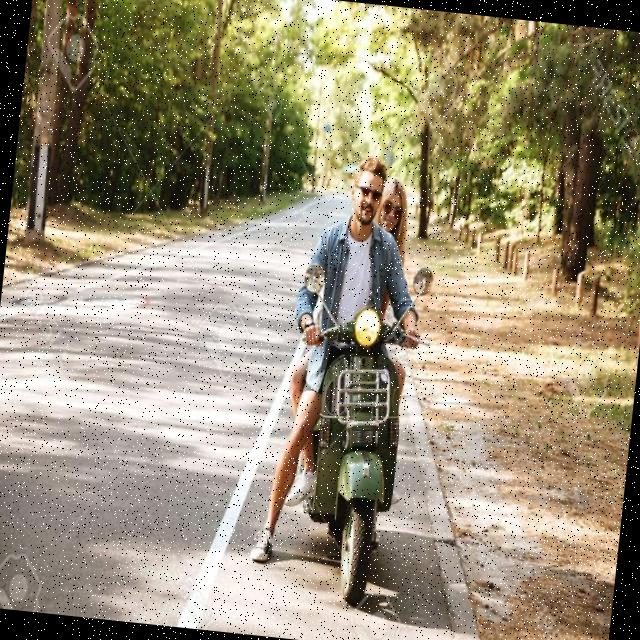No helmet: (346, 155, 389, 239)
